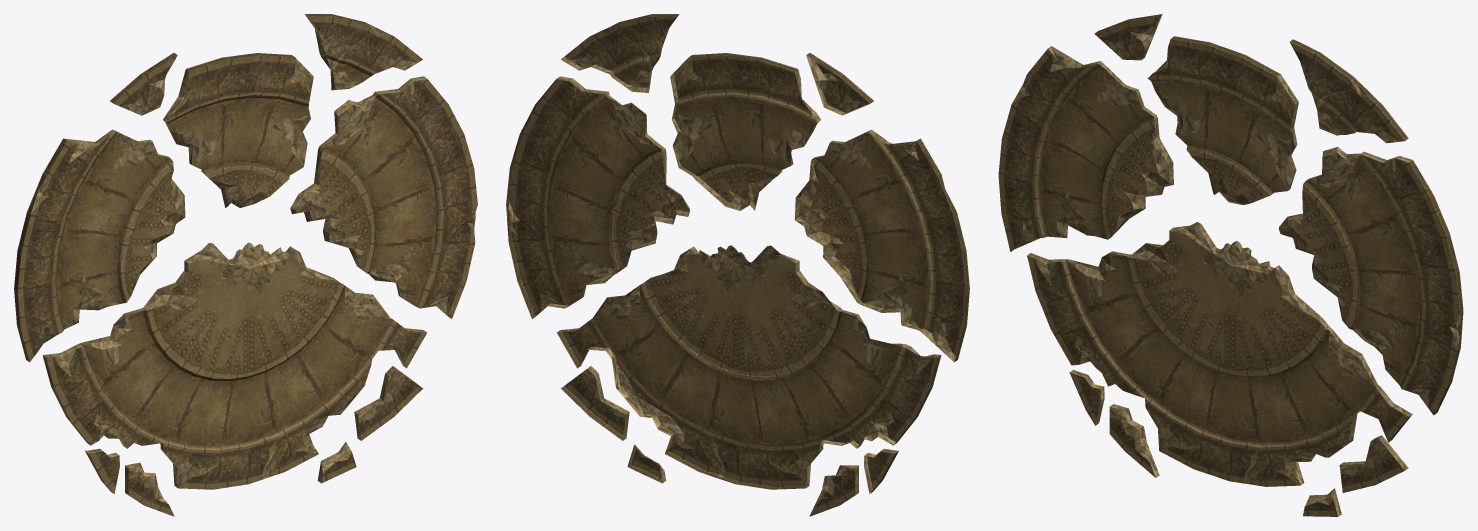
File: aiji_yewai_14_floor_01.obj
3 renders of one model, left to right at view 1: azimuth 30°, elevation 25°; view 2: azimuth 150°, elevation 25°; view 3: azimuth 330°, elevation 25°, orthographic.
Visible parts, largest first — view 1: aiji_yewai_14_floor_01; view 2: aiji_yewai_14_floor_01; view 3: aiji_yewai_14_floor_01.
Boxes of the visible parts, x1,y1,x2,y2 form: aiji_yewai_14_floor_01: (14, 14, 477, 516); aiji_yewai_14_floor_01: (506, 14, 969, 516); aiji_yewai_14_floor_01: (998, 14, 1463, 516).
Bounding box in the file's own units: 2527 × 2467 × 35.95.
Materials: 3 (3 with a texture image).
